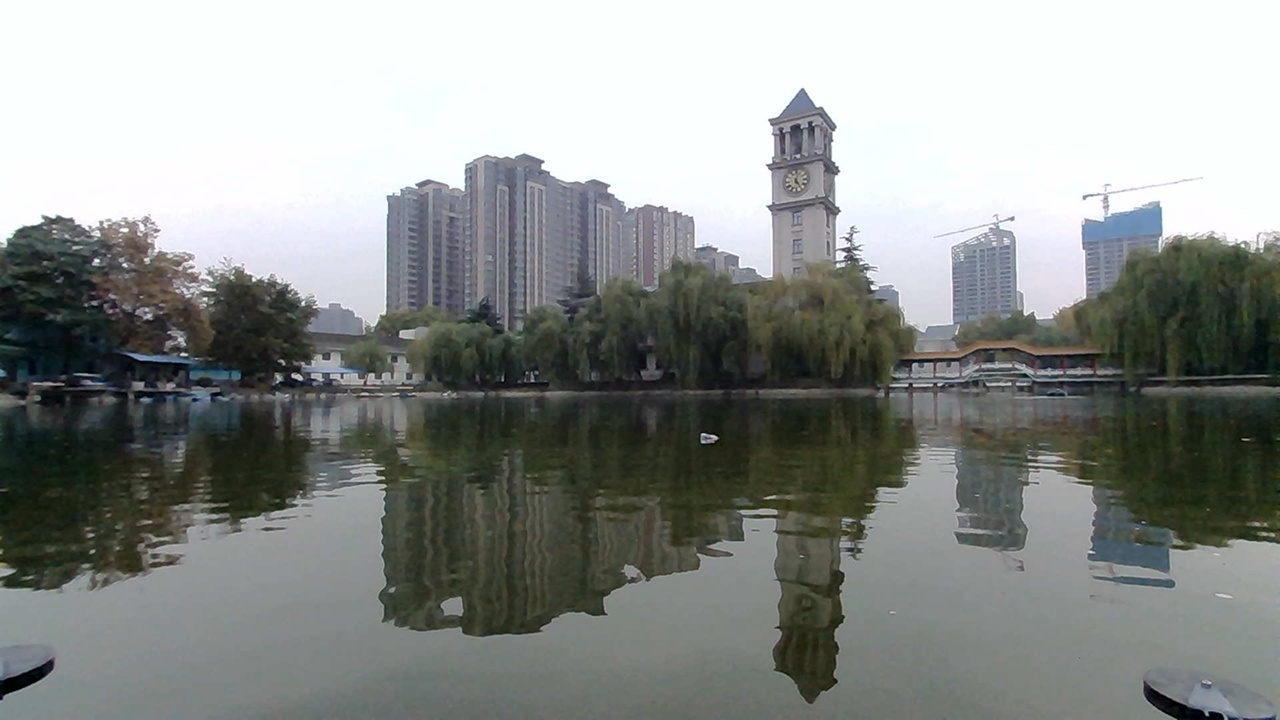bottle: (692, 422, 731, 452)
